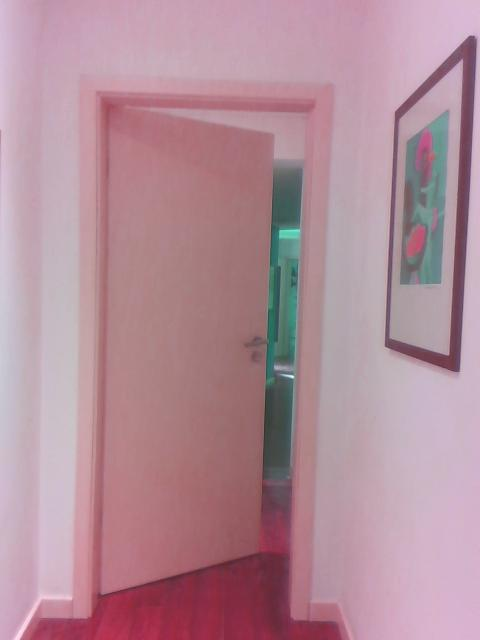semi_door: (73, 73, 334, 628)
